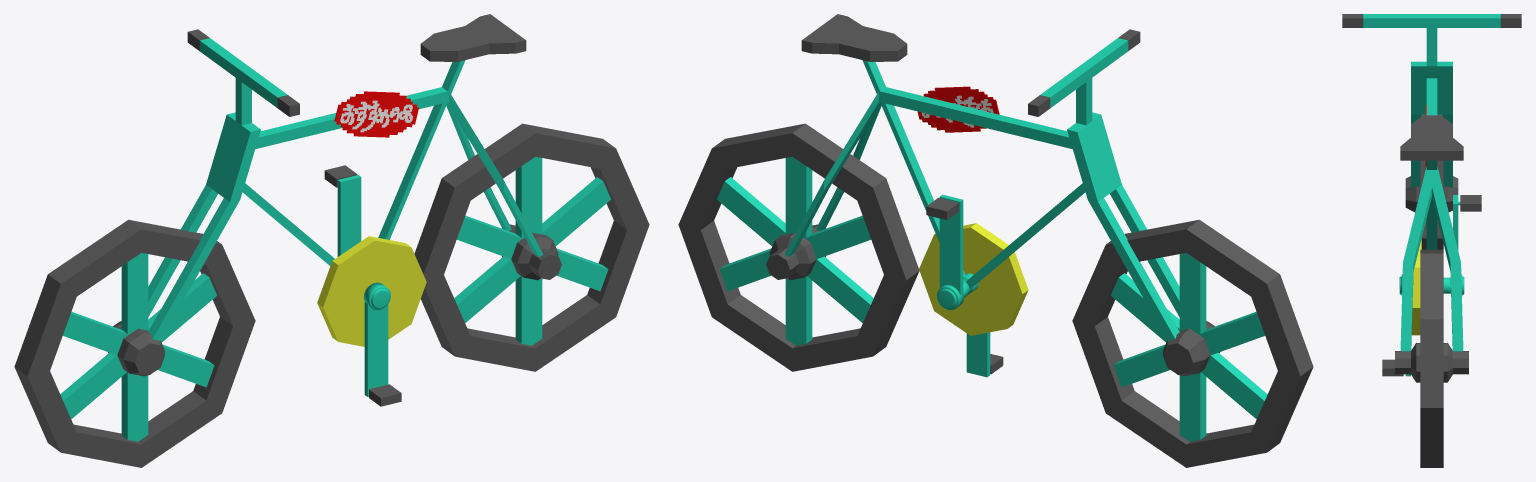
File: kitaku.glb
3 renders of one model, left to right at view 1: azimuth 30°, elevation 25°; view 2: azimuth 150°, elevation 25°; view 3: azimuth 270°, elevation 25°, orthographic. The views are drawn at different scales.
Visible parts, largest first — view 1: kitaku; view 2: kitaku; view 3: kitaku.
Boxes of the visible parts, box(x1,y1,x2,y2) form: kitaku: box(14, 14, 649, 467); kitaku: box(678, 14, 1313, 467); kitaku: box(1342, 14, 1521, 467).
Size of the model in its own units: 6 by 3.4 by 1.7.
4 materials, 1 textured.
